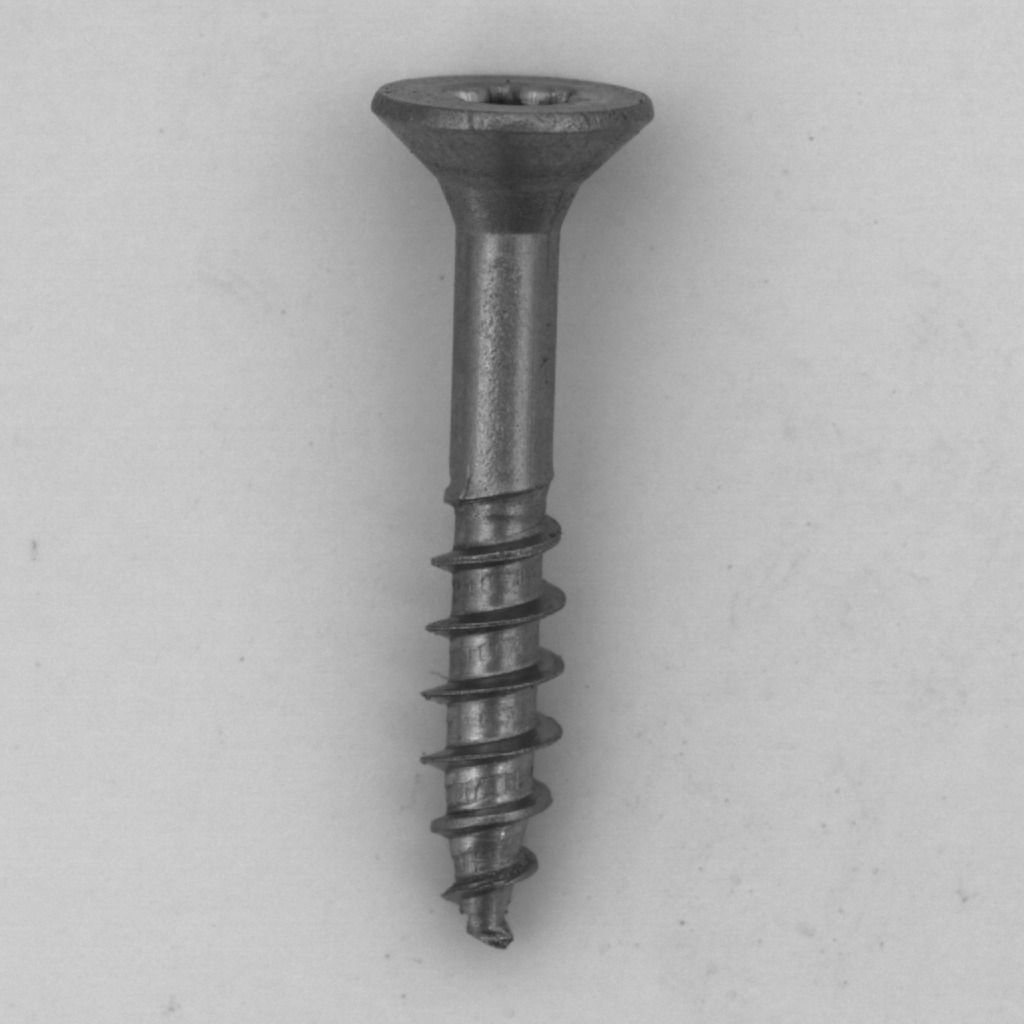manipulated_front: (422, 858, 568, 975)
